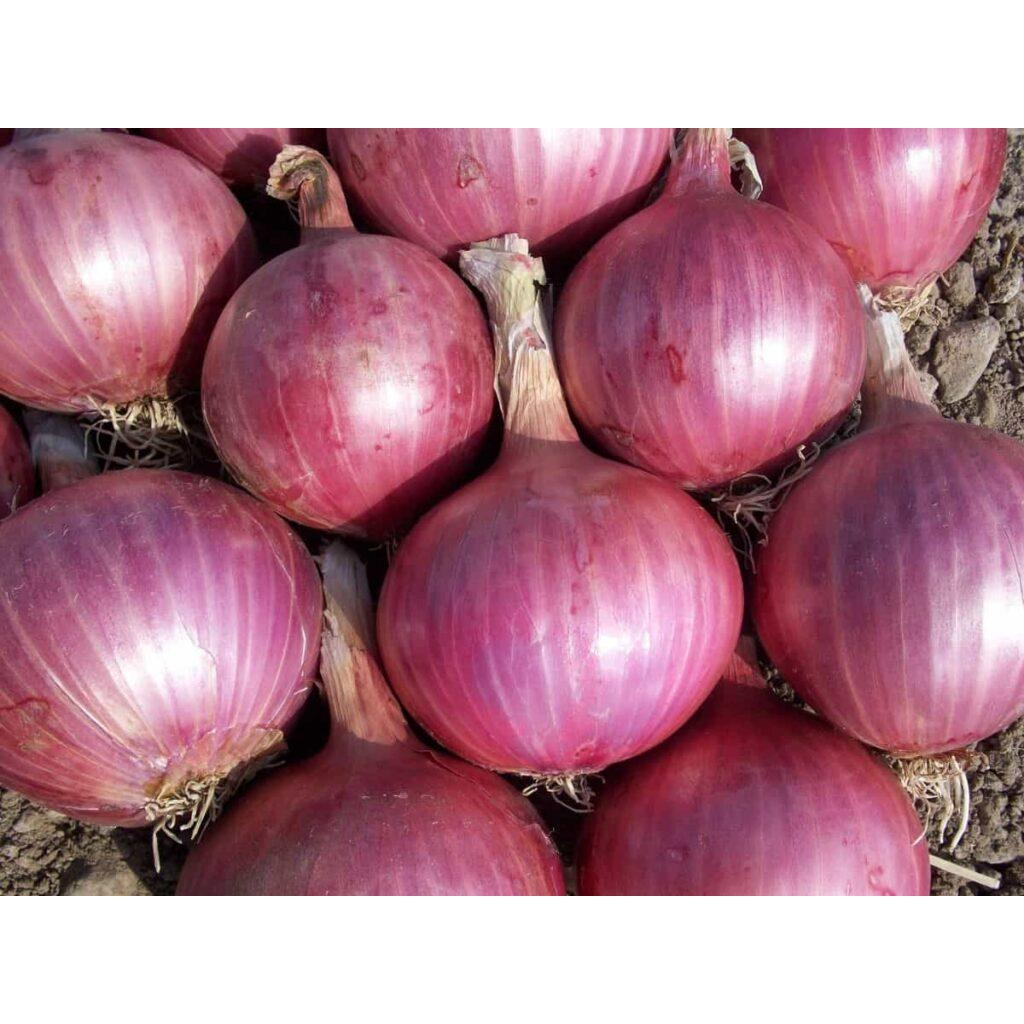Onion: (378, 233, 743, 786), (177, 541, 565, 896), (753, 285, 1024, 756), (0, 469, 323, 846), (203, 144, 494, 538), (555, 128, 868, 488), (579, 680, 931, 896), (0, 131, 258, 412), (328, 128, 674, 262), (738, 128, 1009, 290)
